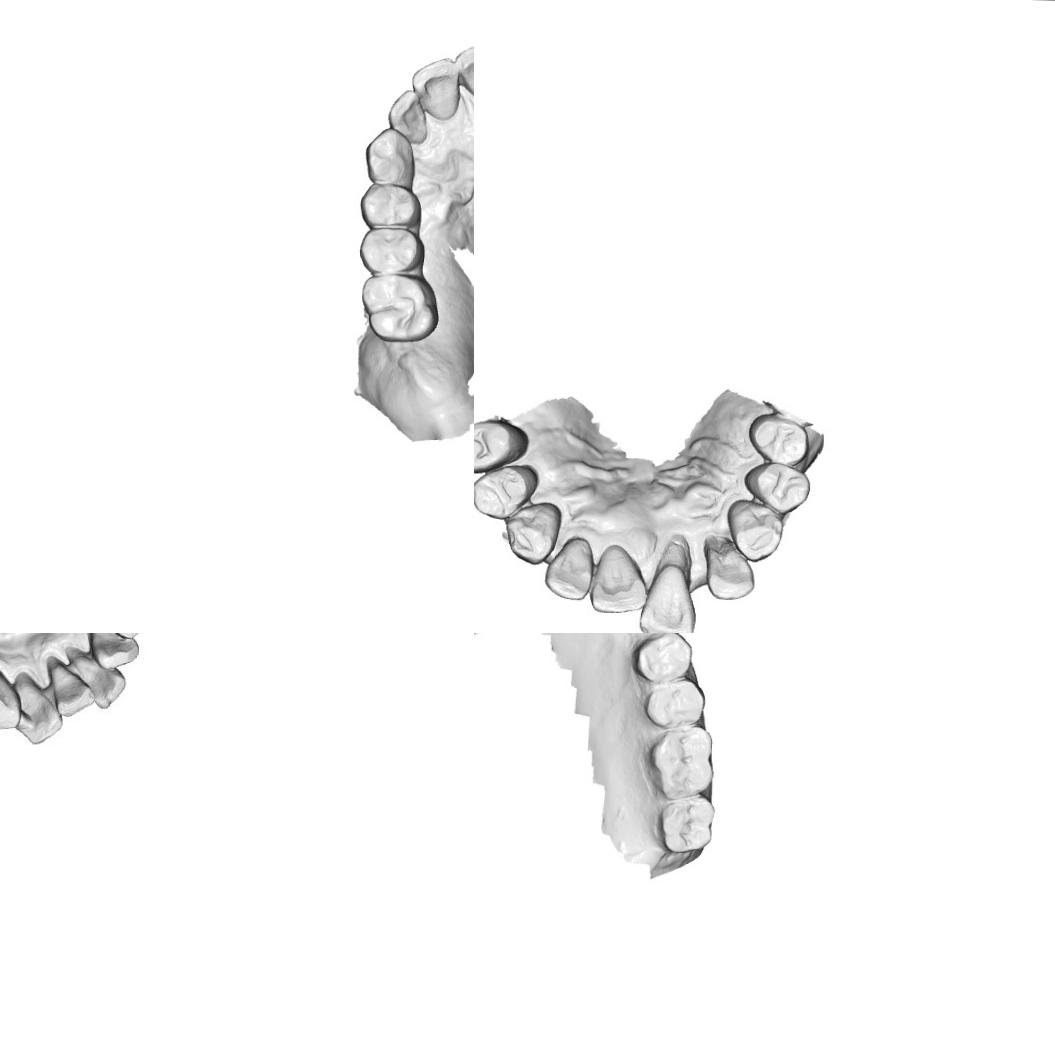canine: (725, 497, 786, 562), (503, 500, 563, 566), (362, 125, 416, 190), (0, 663, 22, 733)
incisor: (637, 536, 699, 633), (589, 542, 648, 614), (701, 531, 758, 602), (11, 672, 64, 746), (68, 652, 128, 710), (542, 536, 594, 602), (409, 56, 460, 122), (46, 663, 98, 719), (387, 88, 429, 146), (85, 633, 141, 671), (453, 40, 474, 105)
molar: (359, 272, 440, 344), (646, 723, 714, 800), (656, 793, 716, 856)
premolar: (474, 462, 539, 521), (745, 460, 812, 513), (747, 412, 808, 468), (642, 676, 705, 729), (629, 633, 693, 684), (358, 228, 426, 275), (474, 418, 529, 475), (358, 182, 421, 228)
